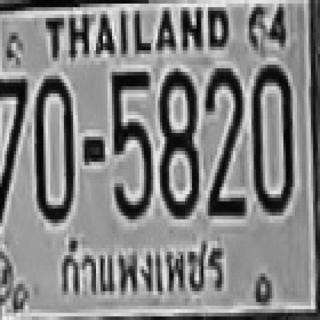N00: (250, 61, 291, 212), (34, 72, 73, 219)
N02: (203, 65, 242, 216), (207, 70, 243, 214)
N05: (110, 68, 151, 216)
N07: (0, 76, 25, 223)
N08: (158, 66, 197, 218)
P16: (55, 233, 230, 298)
